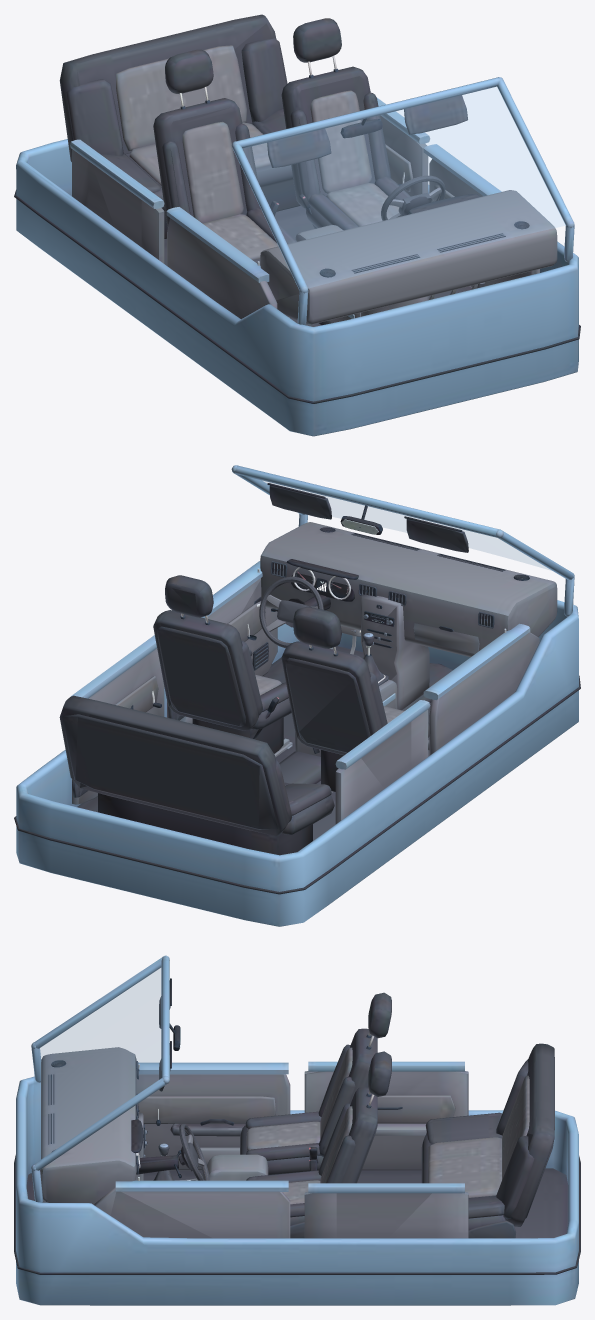
File: 1990s-car-interior.glb
3 views of the same model, one above another, from view 1: azimuth 30°, elevation 25°; view 2: azimuth 150°, elevation 25°; view 3: azimuth 270°, elevation 25° (orthographic). The views are drawn at different scales.
Parts seen in each view (by area): view 1: 1990s-car-interior_body, 1990s-car-interior_windshield_glass, 1990s-car-interior_steering_wheel; view 2: 1990s-car-interior_body, 1990s-car-interior_windshield_glass, 1990s-car-interior_steering_wheel; view 3: 1990s-car-interior_body, 1990s-car-interior_windshield_glass, 1990s-car-interior_steering_wheel.
Boxes of the visible parts, bbox=[...] form: 1990s-car-interior_body: bbox=[14, 14, 580, 436]; 1990s-car-interior_windshield_glass: bbox=[243, 86, 565, 287]; 1990s-car-interior_steering_wheel: bbox=[381, 175, 445, 220]; 1990s-car-interior_body: bbox=[14, 465, 580, 926]; 1990s-car-interior_windshield_glass: bbox=[255, 479, 551, 570]; 1990s-car-interior_steering_wheel: bbox=[259, 576, 323, 647]; 1990s-car-interior_body: bbox=[14, 955, 580, 1305]; 1990s-car-interior_windshield_glass: bbox=[33, 965, 161, 1162]; 1990s-car-interior_steering_wheel: bbox=[178, 1124, 209, 1180].
Bounding box in the file's own units: 1.78 × 1.38 × 3.18.
Materials: 8 (2 with a texture image).
